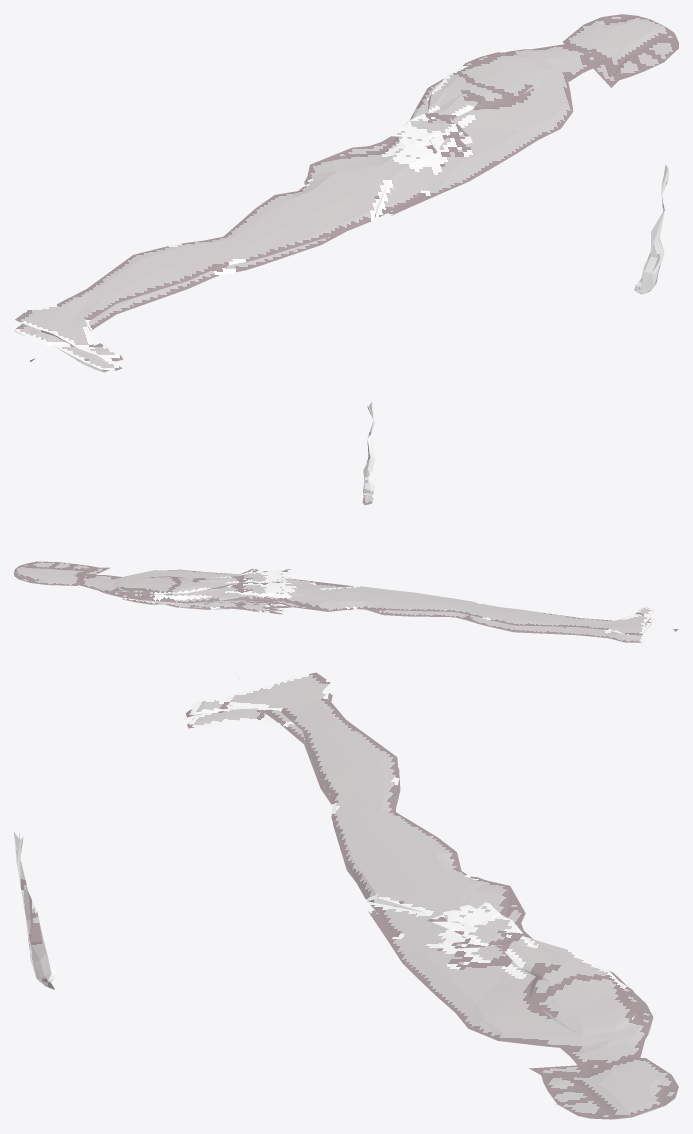
The model's file is mecha.glb.
The picture shows the model from 3 angles, top to bottom: view 1: azimuth 30°, elevation 25°; view 2: azimuth 150°, elevation 25°; view 3: azimuth 270°, elevation 25°; orthographic projection. The views are drawn at different scales.
Parts seen in each view (by area): view 1: model_m; view 2: model_m; view 3: model_m.
Boxes of the visible parts, <box> form: model_m: <box>14,14,678,372</box>; model_m: <box>14,402,678,643</box>; model_m: <box>14,672,678,1119</box>.
Size of the model in its own units: 33.87 by 6 by 20.64.
Materials: 1 (1 with a texture image).
